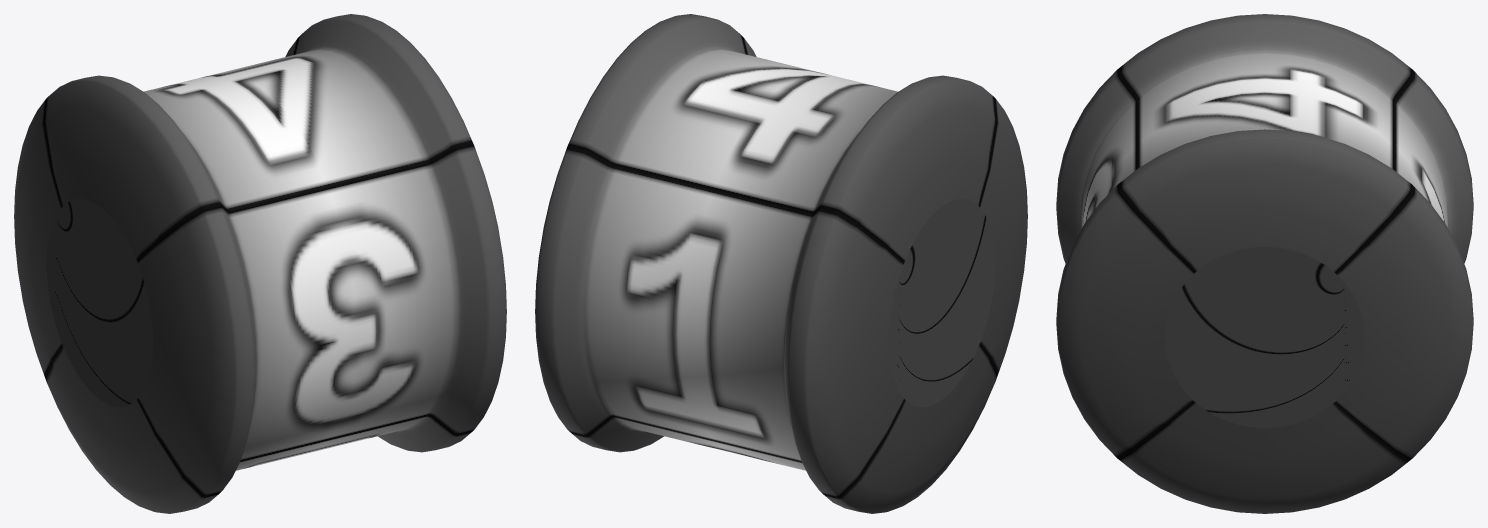
Rendered from Rad.fbx.
The picture shows the model from 3 angles, left to right: view 1: azimuth 30°, elevation 25°; view 2: azimuth 150°, elevation 25°; view 3: azimuth 270°, elevation 25°; orthographic projection. The views are drawn at different scales.
Visible parts, largest first — view 1: Cylinder; view 2: Cylinder; view 3: Cylinder.
Boxes of the visible parts, <box> form: Cylinder: <box>14,14,506,513</box>; Cylinder: <box>535,14,1027,513</box>; Cylinder: <box>1056,14,1473,513</box>.
Size of the model in its own units: 190 by 228 by 228.
Materials: 1 (1 with a texture image).
